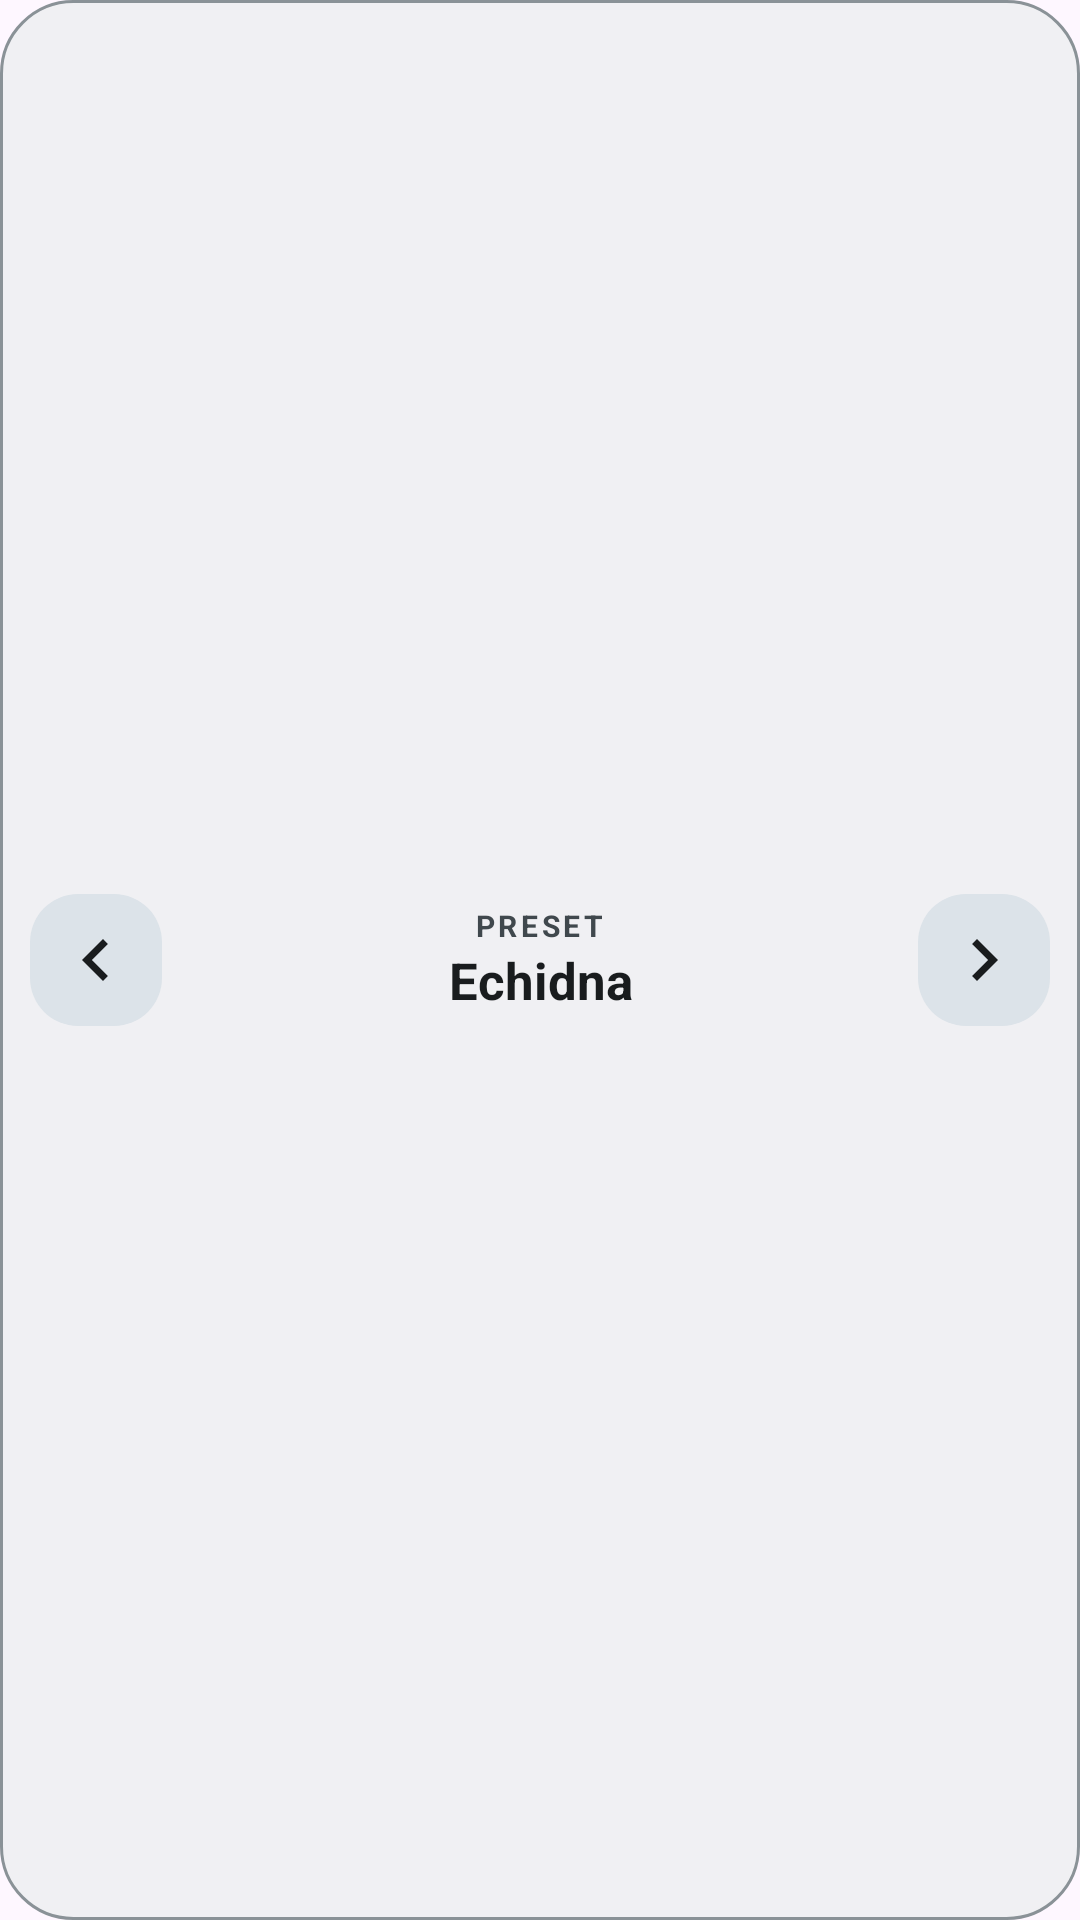

Named icons in this screenshot (1080w x 1920h) and their bounding boxes, box=[x1, y1, x2, y2]:
Next preset: box=[918, 894, 1050, 1026]
Previous preset: box=[30, 894, 162, 1026]
